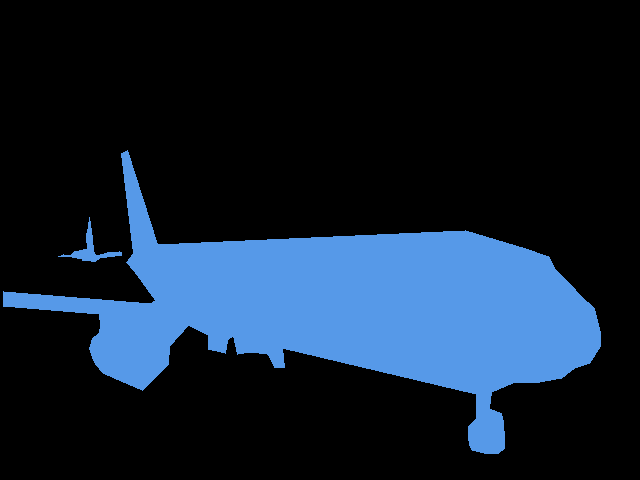Airplane: (3, 150, 601, 453), (58, 217, 122, 261)
